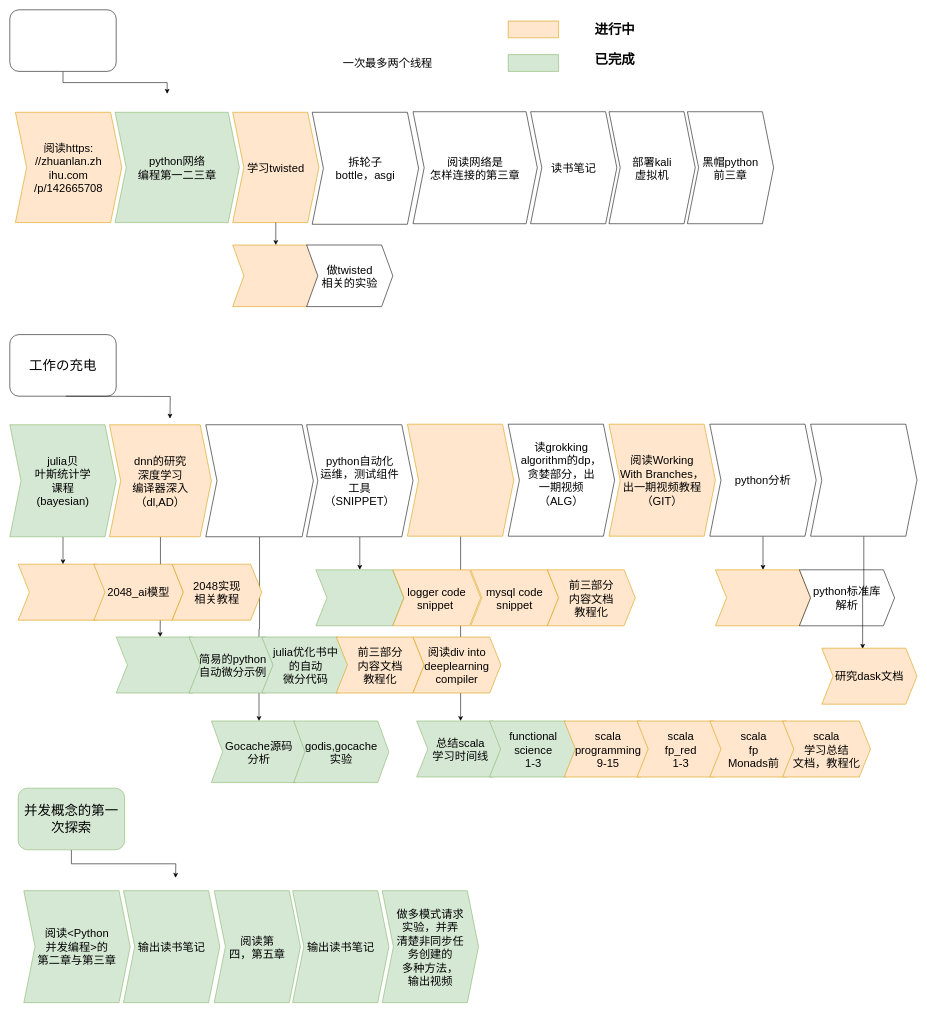
This 927x1012 diagram has some shape labels left out. Each missing label, with the centre of its shape:
"Cpython编译 教程" goes at (x=763, y=597).
"distributed" goes at (x=863, y=480).
"socket 网络组件研究 （WEB EXP,GO）" goes at (x=259, y=480).
"ssh code snippet" goes at (x=359, y=597).
"出一期julia 贝叶斯视频" goes at (x=63, y=592).
"在windows linux平台 编译tvm" goes at (x=160, y=664).
"在虚拟机上 部署 spark+scala 环境，出一期 视频 （FN）" goes at (x=460, y=480).
"看完 krnodo教程" goes at (x=275, y=275).
"计算机网络" goes at (x=62, y=40).
